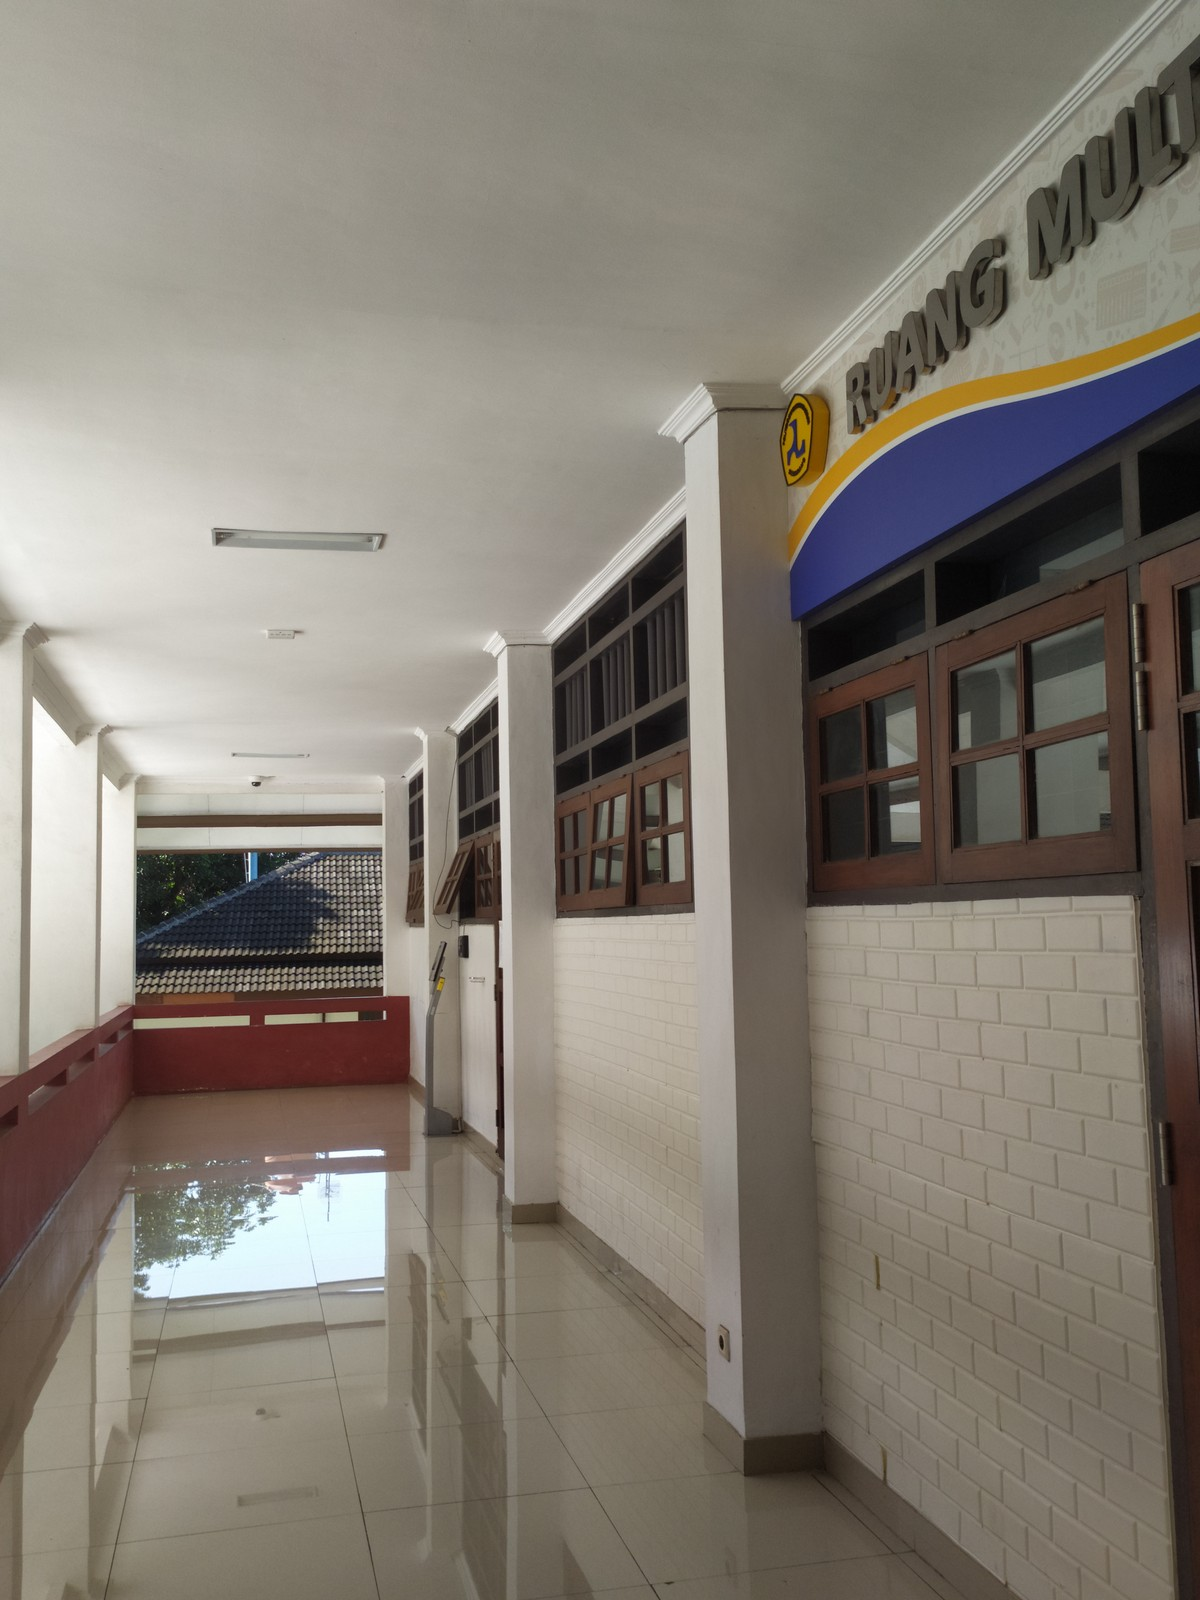concrete column: (672, 412, 837, 1487), (489, 641, 574, 1230), (418, 738, 465, 1138)
